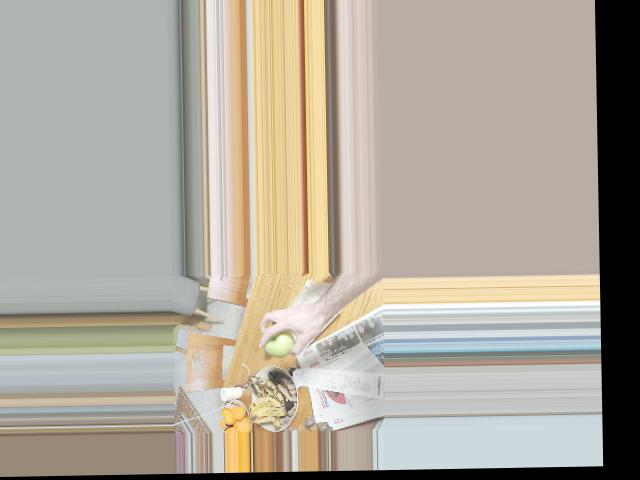apple: (258, 323, 301, 356)
